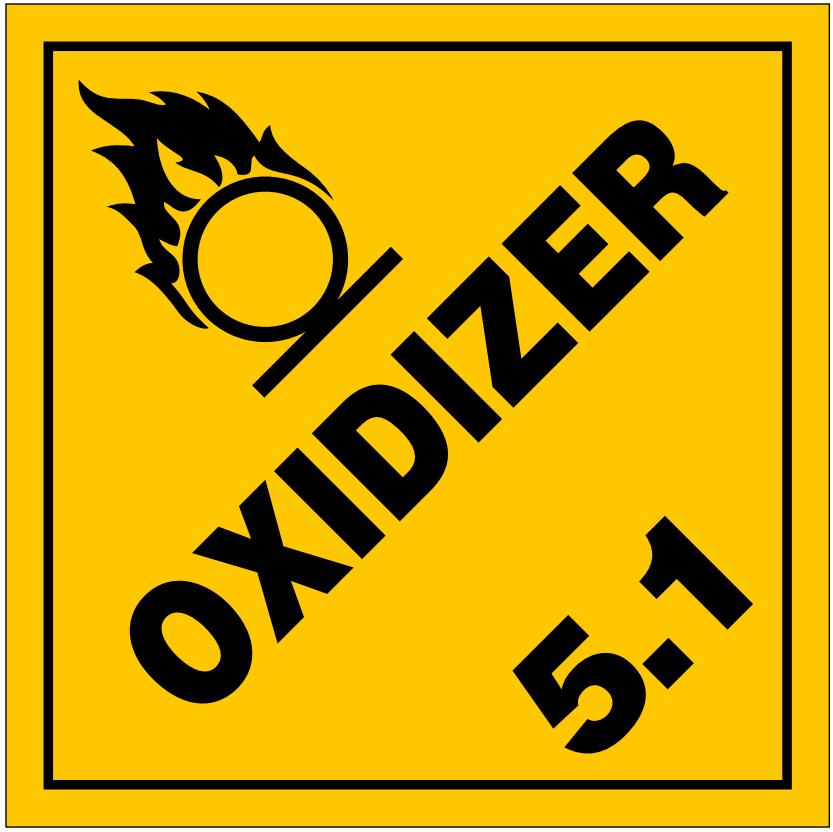oxidizer: (1, 1, 833, 832)
